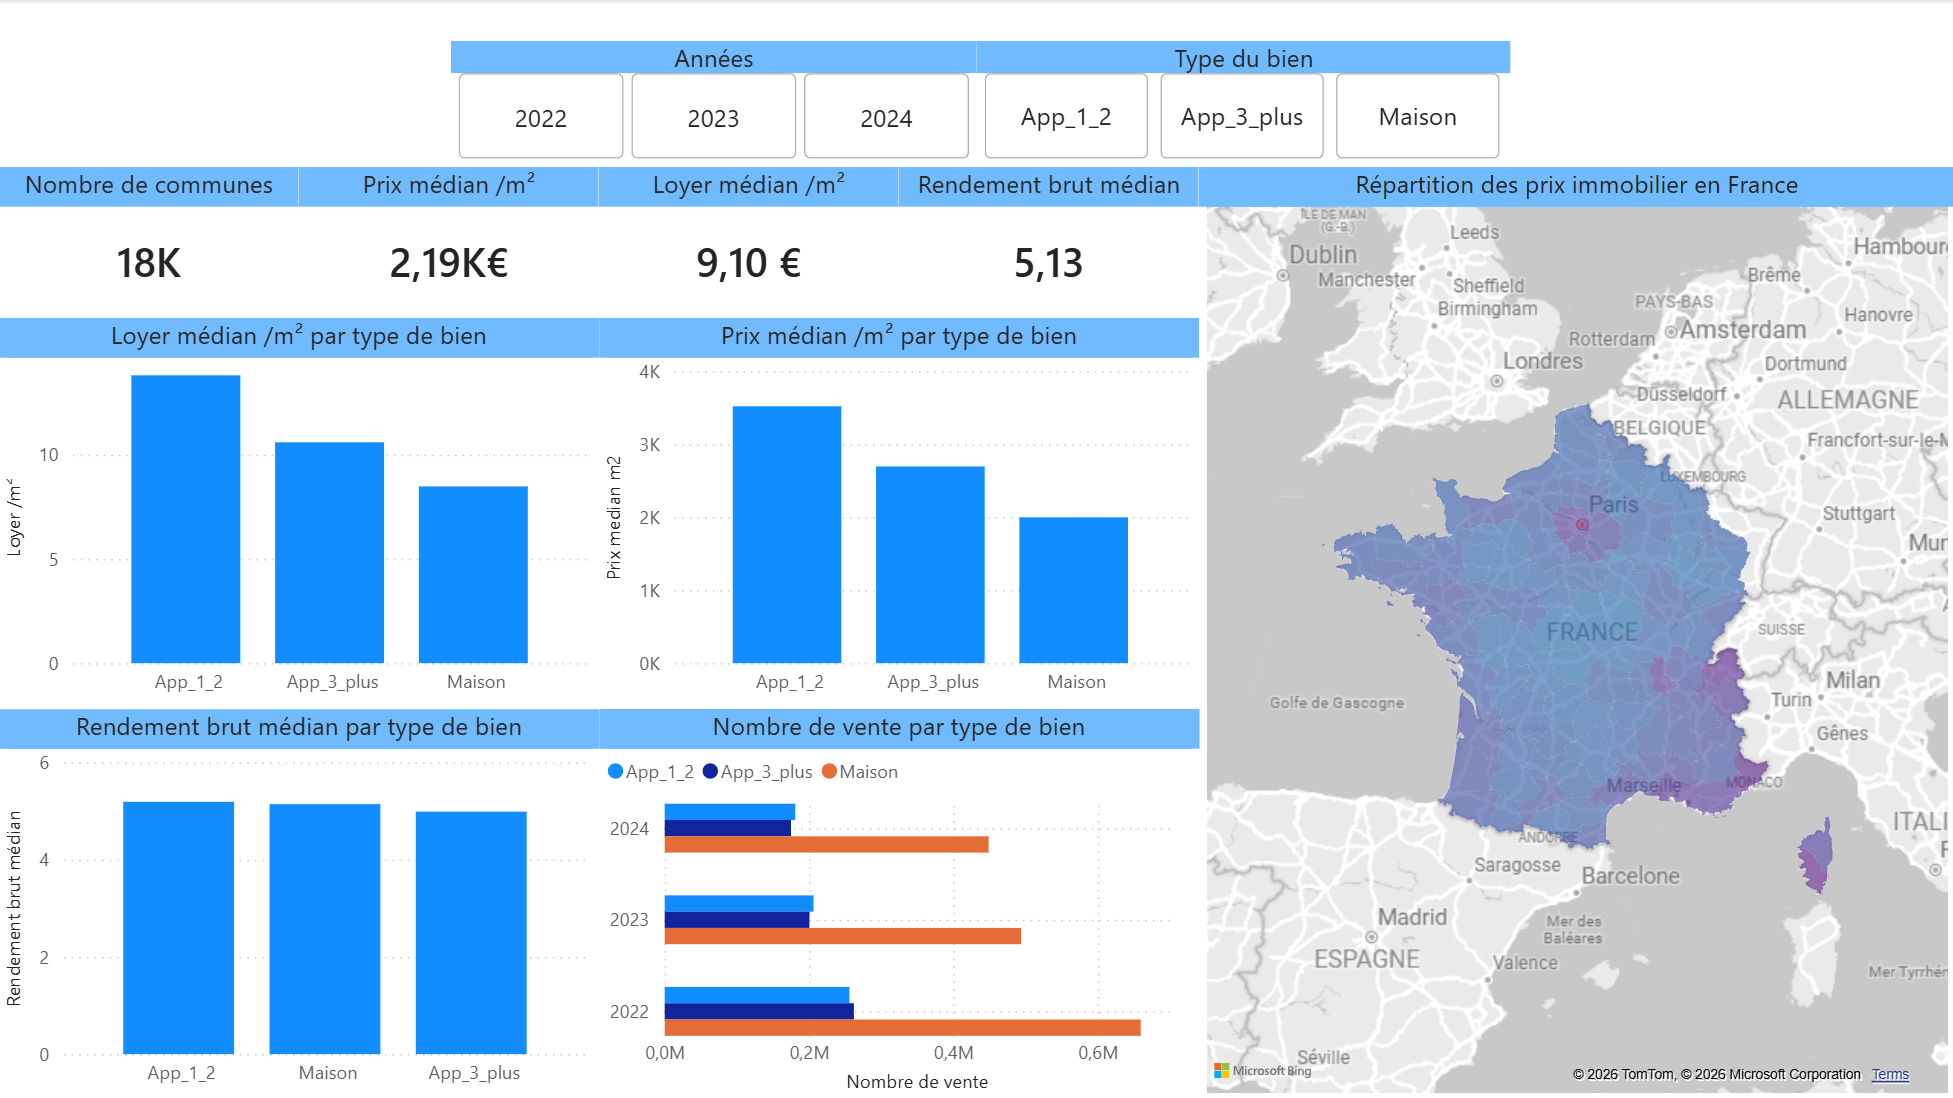

What the dashboard file says about the page in this screenshot:
{"tool":"powerbi","page":{"name":"01-Vue macro du marché","canvas":[1280,720],"ordinal":0},"visuals":[{"type":"cardVisual","title":"Loyer médian /m²","fields":{"Data":["dashboard_immo_france_FR.Loyer median m2"]},"box":[392.6,109.3,196.3,98.8],"z":0},{"type":"cardVisual","title":"Rendement brut médian","fields":{"Data":["dashboard_immo_france_FR.Rendement median"]},"box":[589,109.3,196.3,98.8],"z":1000},{"type":"cardVisual","title":"Nombre de communes","fields":{"Data":["dashboard_immo_france_FR.Nb communes"]},"box":[0,109.3,196.3,98.8],"z":2000},{"type":"clusteredColumnChart","title":"Prix médian /m² par type de bien","fields":{"Category":["dashboard_immo_france_FR.segment_bien"],"Y":["dashboard_immo_france_FR.Prix median m2"]},"box":[392.6,208.1,392.6,255.9],"z":3000},{"type":"cardVisual","title":"Prix médian /m²","fields":{"Data":["dashboard_immo_france_FR.Prix median m2"]},"box":[196.3,109.3,196.3,98.8],"z":4000},{"type":"filledMap","title":"Répartition des prix immobilier en France","fields":{"Category":["dashboard_immo_france_FR.departement","dashboard_immo_france_FR.prix_m2_median"]},"box":[785.3,109.3,494.7,610.6],"z":5000},{"type":"clusteredBarChart","title":"Nombre de vente par type de bien","fields":{"Category":["dashboard_immo_france_FR.annee"],"Y":["Sum(dashboard_immo_france_FR.nb_ventes)"],"Series":["dashboard_immo_france_FR.segment_bien"]},"box":[392.6,464,392.6,255.9],"z":6000},{"type":"clusteredColumnChart","title":"Rendement brut médian par type de bien","fields":{"Category":["dashboard_immo_france_FR.segment_bien"],"Y":["Median(dashboard_immo_france_FR.rendement_brut_pct)"]},"box":[0,464,392.6,255.9],"z":7000},{"type":"clusteredColumnChart","title":"Loyer médian /m² par type de bien","fields":{"Category":["dashboard_immo_france_FR.segment_bien"],"Y":["Median(dashboard_immo_france_FR.loyer_m2)"]},"box":[0,208.1,392.6,255.9],"z":8000},{"type":"advancedSlicerVisual","title":"Années","fields":{"Values":["dashboard_immo_france_FR.annee"]},"box":[295.8,26.8,344.2,82.5],"z":9000},{"type":"advancedSlicerVisual","title":"Type du bien ","fields":{"Values":["dashboard_immo_france_FR.segment_bien"]},"box":[640,26.8,349.4,82.5],"z":10000}]}

Visuals, with their boxes in screenshot pixels (x1, y1, x2, y2), scaled from the page's 1280x720 canvas onto the 1953x1098 screenshot:
"Loyer médian /m²" cardVisual: box(599, 167, 899, 317)
"Rendement brut médian" cardVisual: box(899, 167, 1198, 317)
"Nombre de communes" cardVisual: box(0, 167, 300, 317)
"Prix médian /m² par type de bien" clusteredColumnChart: box(599, 317, 1198, 708)
"Prix médian /m²" cardVisual: box(300, 167, 599, 317)
"Répartition des prix immobilier en France" filledMap: box(1198, 167, 1952, 1097)
"Nombre de vente par type de bien" clusteredBarChart: box(599, 708, 1198, 1097)
"Rendement brut médian par type de bien" clusteredColumnChart: box(0, 708, 599, 1097)
"Loyer médian /m² par type de bien" clusteredColumnChart: box(0, 317, 599, 708)
"Années" advancedSlicerVisual: box(451, 41, 976, 167)
"Type du bien " advancedSlicerVisual: box(976, 41, 1510, 167)
